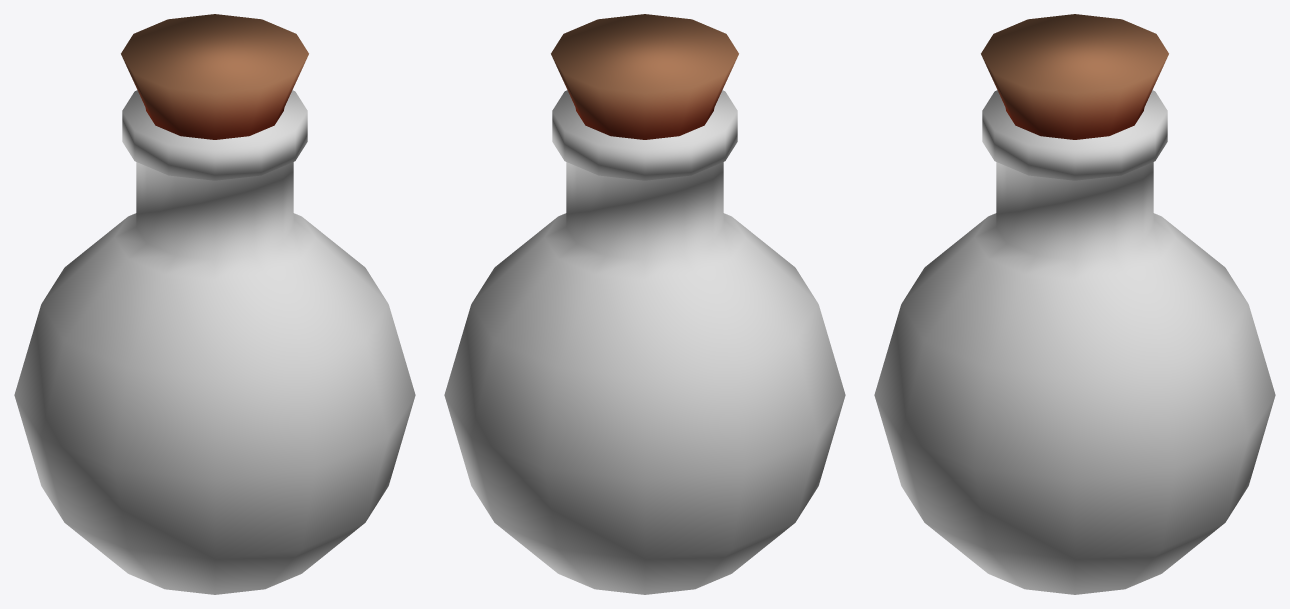
The model's file is PotionEndlessRunner.fbx.
The picture shows the model from 3 angles, left to right: view 1: azimuth 30°, elevation 25°; view 2: azimuth 150°, elevation 25°; view 3: azimuth 270°, elevation 25°; orthographic projection.
Visible parts, largest first — view 1: Sphere, Sphere.001; view 2: Sphere, Sphere.001; view 3: Sphere, Sphere.001.
Part boxes in pixels (left/top/right/bottom): Sphere: left=14, top=90, right=415, bottom=594; Sphere.001: left=121, top=14, right=308, bottom=139; Sphere: left=444, top=90, right=845, bottom=594; Sphere.001: left=551, top=14, right=738, bottom=139; Sphere: left=874, top=90, right=1275, bottom=594; Sphere.001: left=981, top=14, right=1168, bottom=139.
Size of the model in its own units: 200 by 288 by 200.
Materials: 1 (1 with a texture image).
